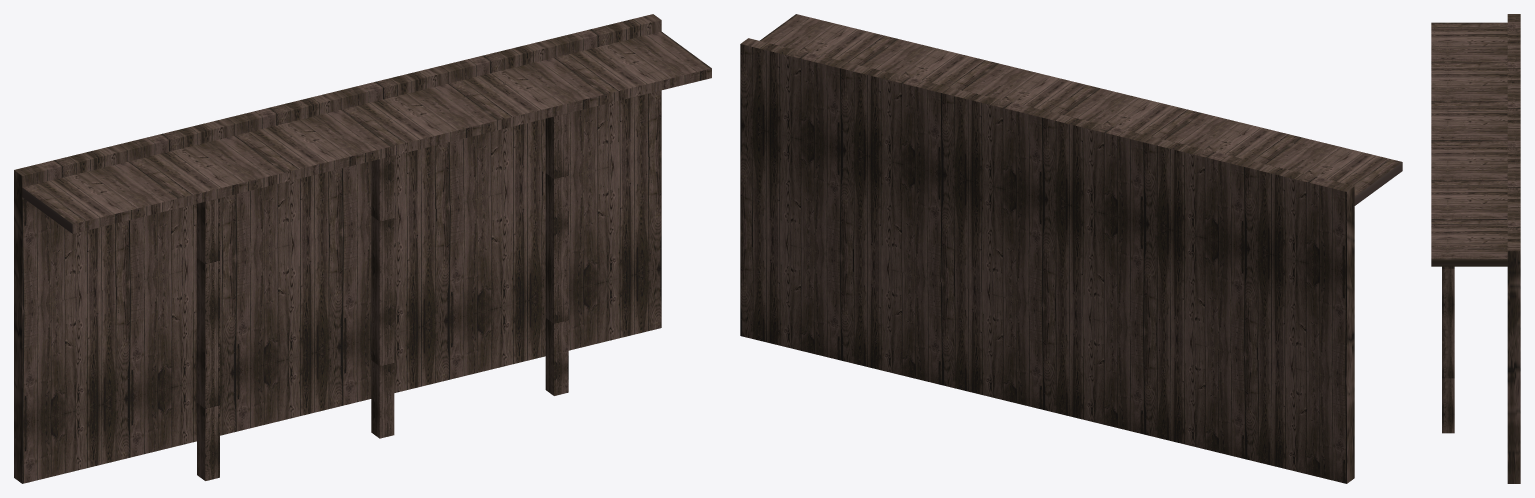
File: ShortWall.fbx
3 renders of one model, left to right at view 1: azimuth 30°, elevation 25°; view 2: azimuth 150°, elevation 25°; view 3: azimuth 270°, elevation 25°, orthographic. The views are drawn at different scales.
Parts seen in each view (by area): view 1: ShortWall; view 2: ShortWall; view 3: ShortWall.
Part boxes in pixels (x1=…): ShortWall: x1=14, y1=14, x2=711, y2=483; ShortWall: x1=740, y1=14, x2=1402, y2=483; ShortWall: x1=1431, y1=14, x2=1520, y2=483.
Size of the model in its own units: 2200 by 1012 by 350.
